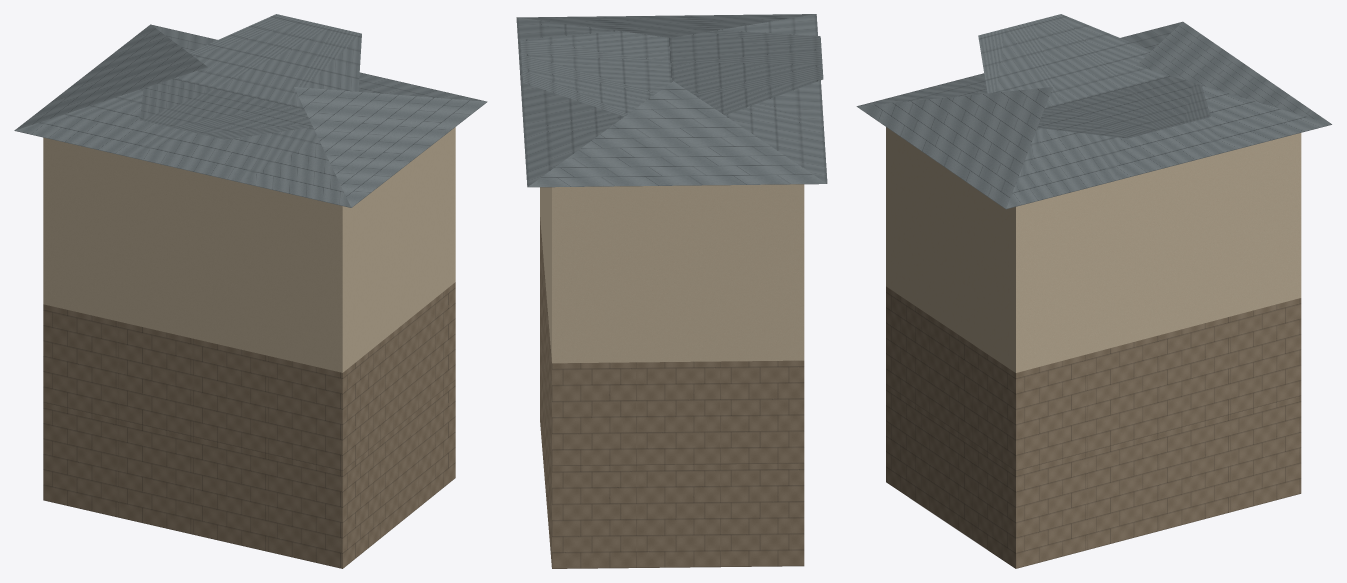
File: bld_c34_46_234.gltf
3 views of the same model, side by side, from view 1: azimuth 30°, elevation 25°; view 2: azimuth 150°, elevation 25°; view 3: azimuth 270°, elevation 25° (orthographic). The views are drawn at different scales.
Visible parts, largest first — view 1: bld_c34_46_234; view 2: bld_c34_46_234; view 3: bld_c34_46_234.
Boxes of the visible parts, x1,y1,x2,y2 form: bld_c34_46_234: (14, 14, 487, 568); bld_c34_46_234: (516, 14, 827, 568); bld_c34_46_234: (856, 14, 1331, 568).
Size of the model in its own units: 10.26 by 10.5 by 11.
Materials: 3 (3 with a texture image).
